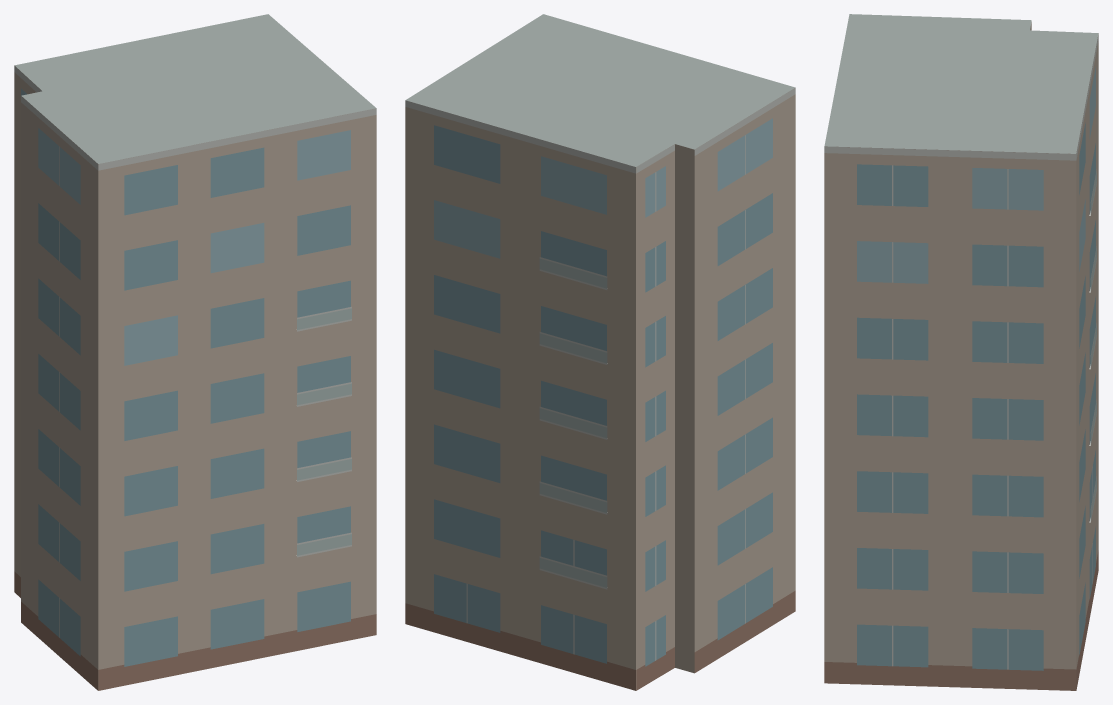
Rendered from survey-upis-32668891.glb.
3 views of the same model, side by side, from view 1: azimuth 30°, elevation 25°; view 2: azimuth 150°, elevation 25°; view 3: azimuth 270°, elevation 25° (orthographic). The views are drawn at different scales.
Parts seen in each view (by area): view 1: survey-upis-32668891.tmp; view 2: survey-upis-32668891.tmp; view 3: survey-upis-32668891.tmp.
Part boxes in pixels (box(x1,y1,x2,y2)): survey-upis-32668891.tmp: box(14, 14, 376, 690); survey-upis-32668891.tmp: box(405, 14, 795, 690); survey-upis-32668891.tmp: box(824, 14, 1098, 690).
Bounding box in the file's own units: 10.91 × 19.5 × 9.04.
